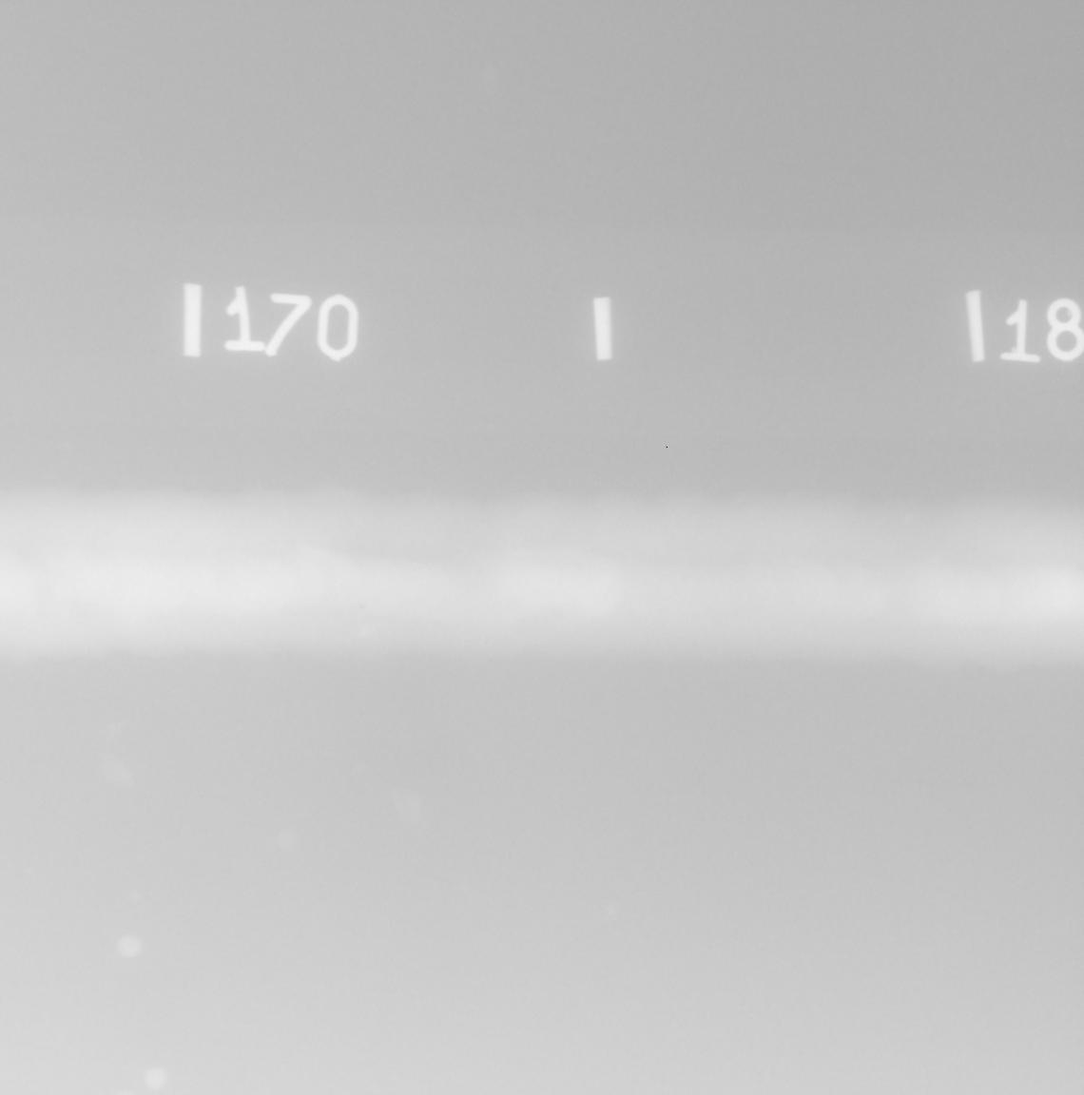Incomplete Root Penetration: (69, 602, 96, 605)
Pore/Porosity: (358, 605, 364, 609), (338, 615, 343, 617)
